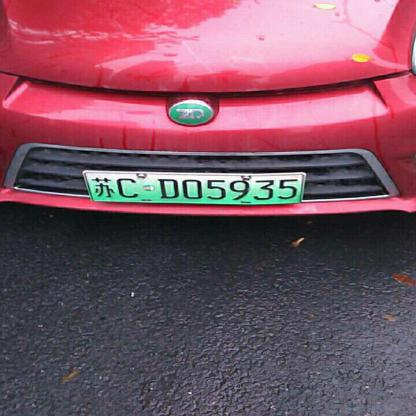lp: (86, 173, 301, 201)
